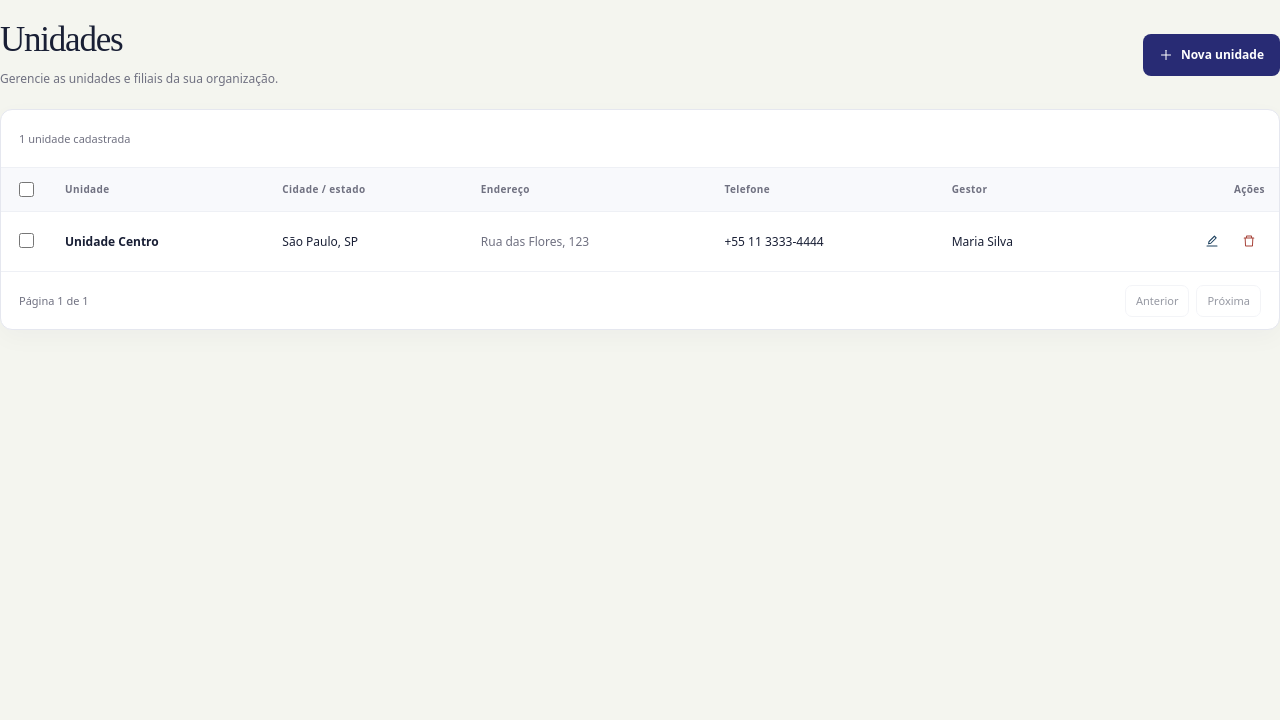
Test: locations page › accepts only numeric phone characters and displays inline field errors
Click the button "Nova unidade" at (1211, 54), box x1=1143 y1=34 x2=1279 y2=76
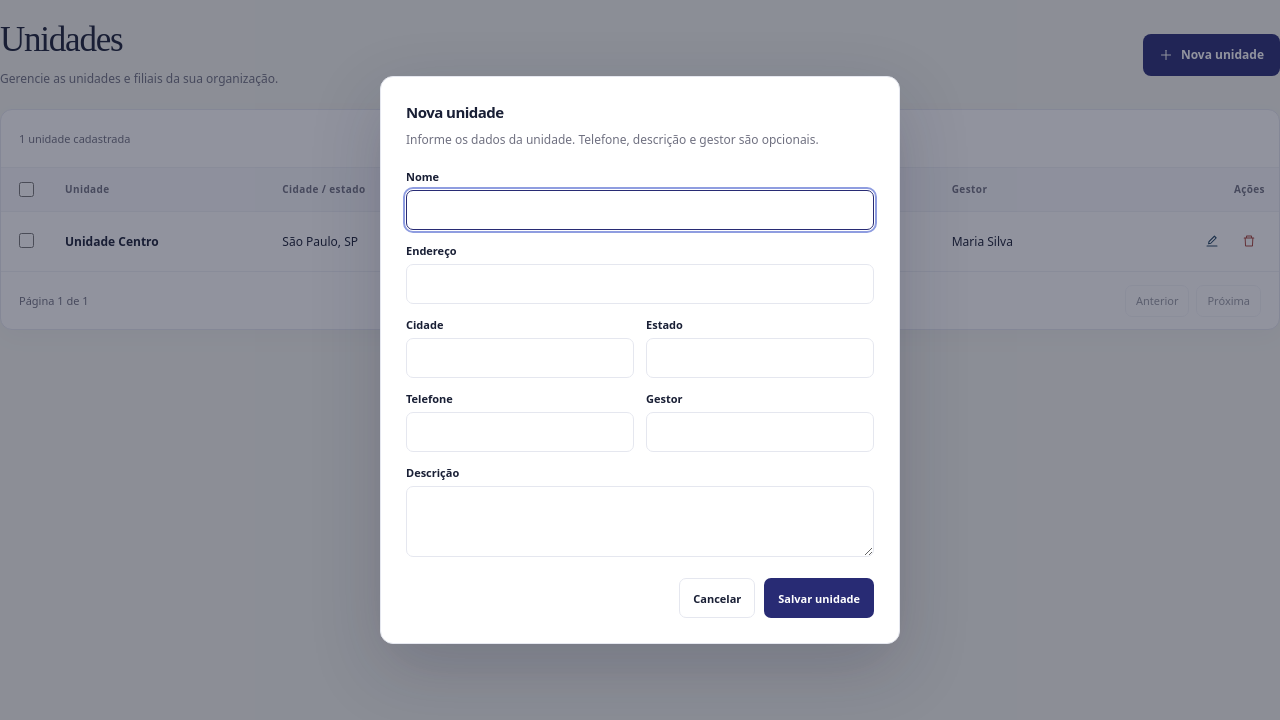
Type "12ab-34" into the field labelled "Telefone" at (520, 432), box x1=406 y1=412 x2=634 y2=452
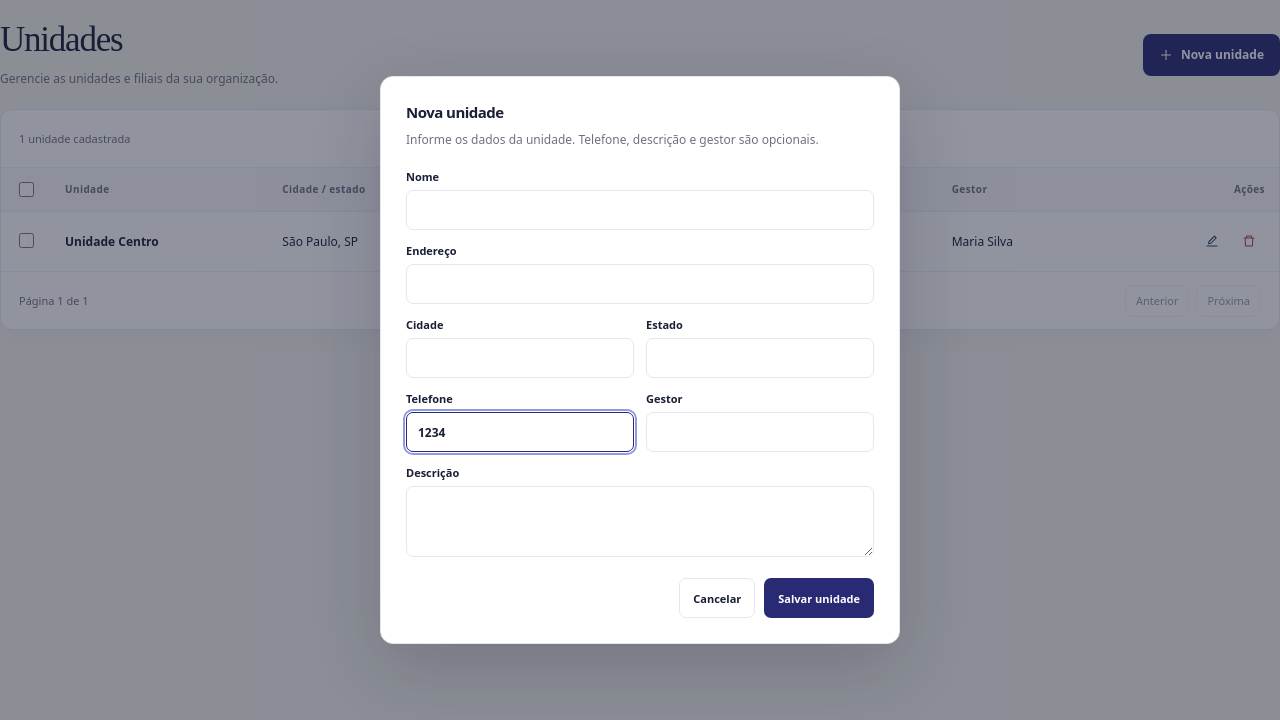
Expected: the field labelled "Telefone" holds "1234", x1=406 y1=412 x2=634 y2=452
Click the button "Salvar unidade" at (819, 598), box x1=764 y1=578 x2=874 y2=618
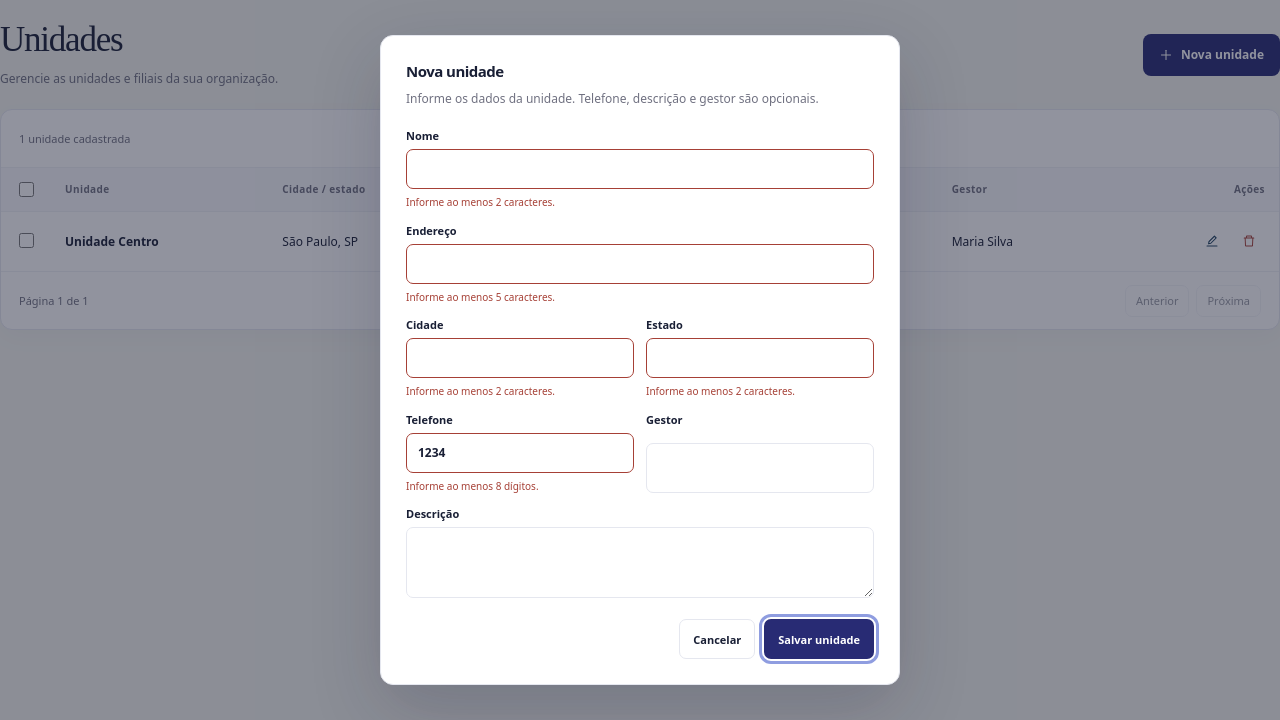
Expected: the text "Informe ao menos 2 caracteres." below "Nome" is shown, x1=406 y1=195 x2=555 y2=209
Expected: the text "Informe ao menos 8 dígitos." is shown, x1=406 y1=479 x2=539 y2=493
